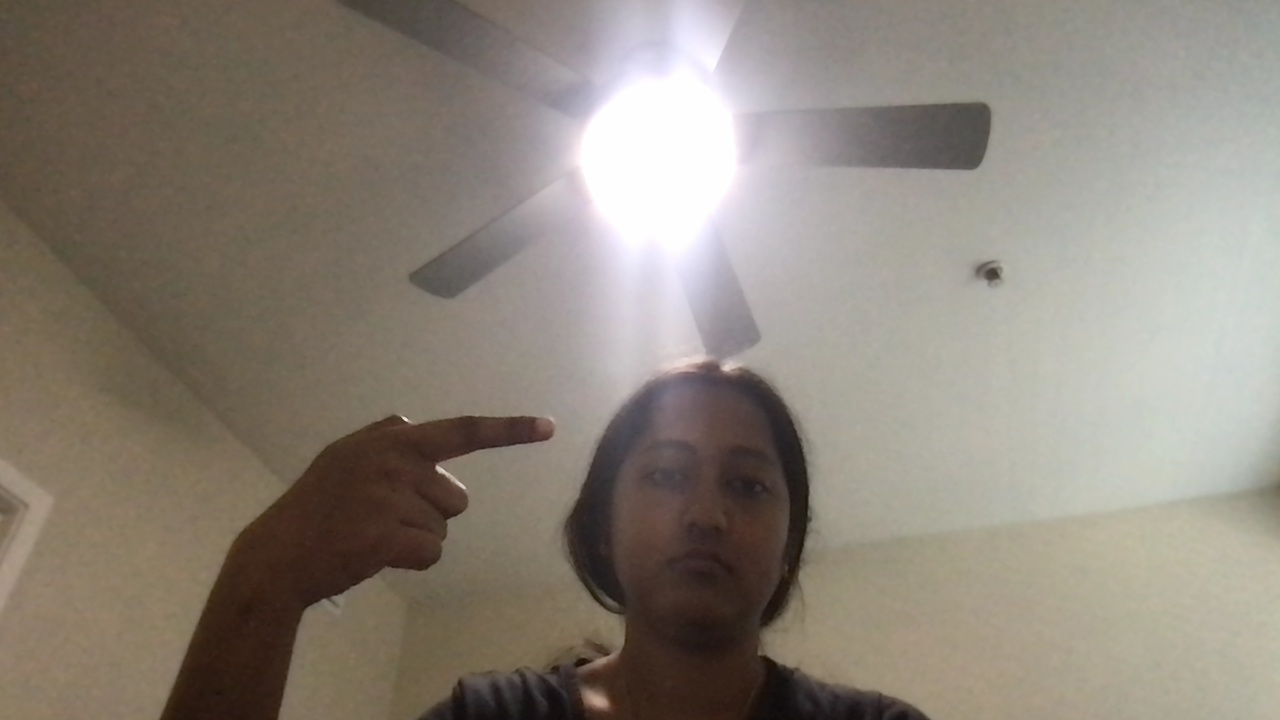g: (325, 413, 576, 573)
